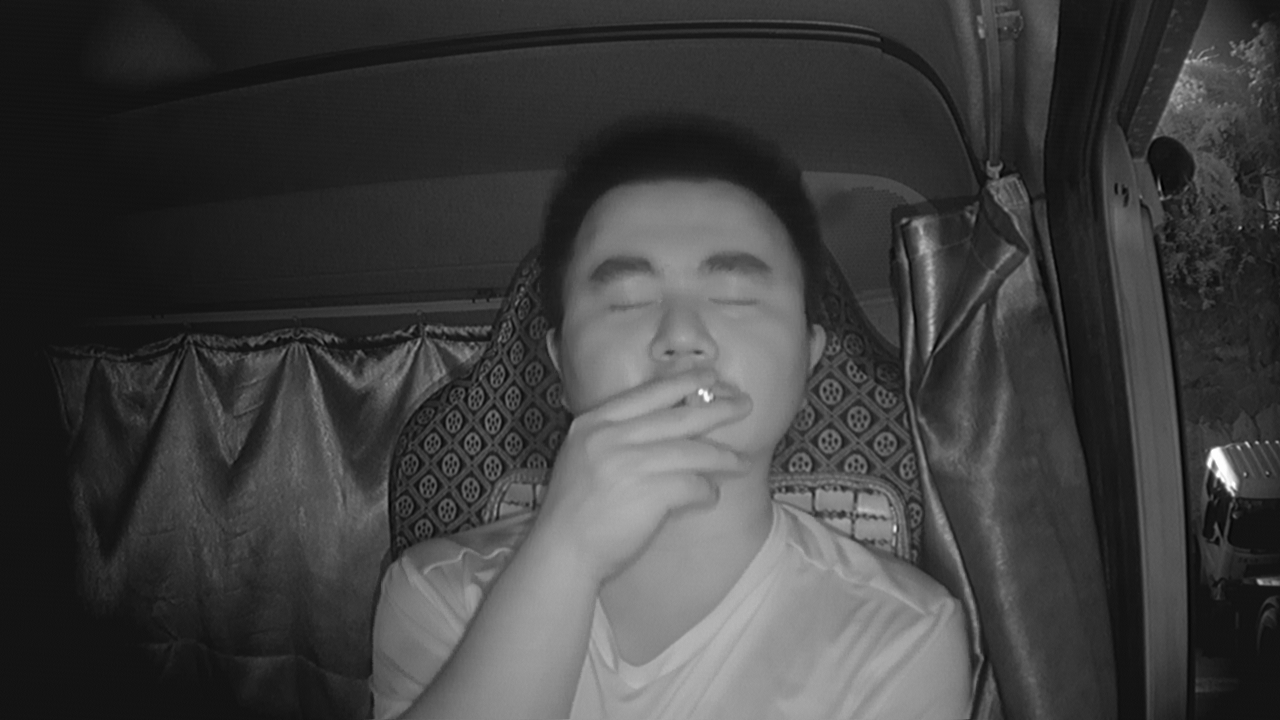hand: (598, 360, 748, 527)
